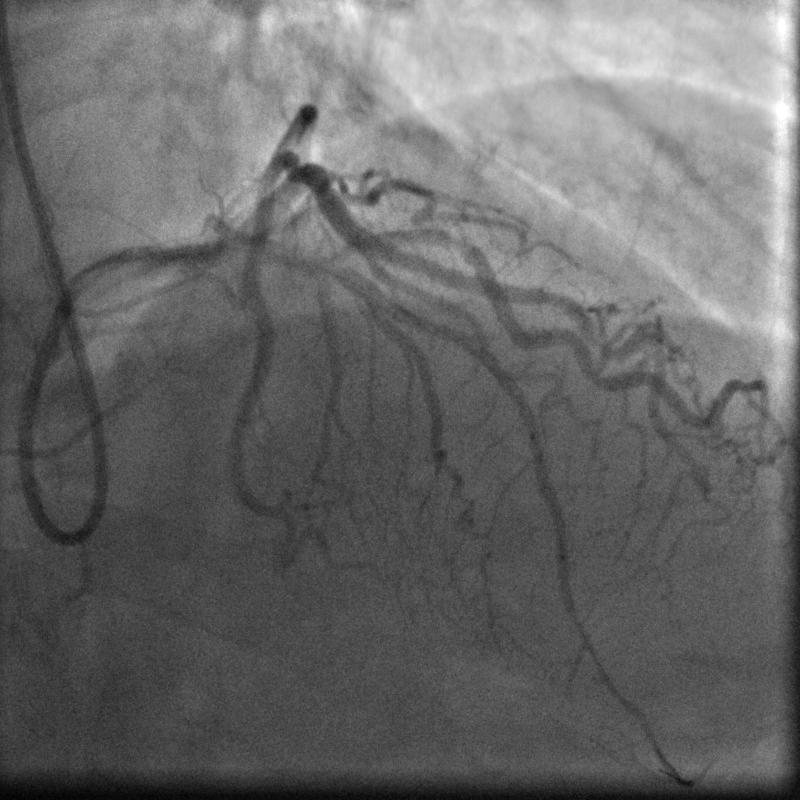Stenosis: (433, 223, 483, 260)
